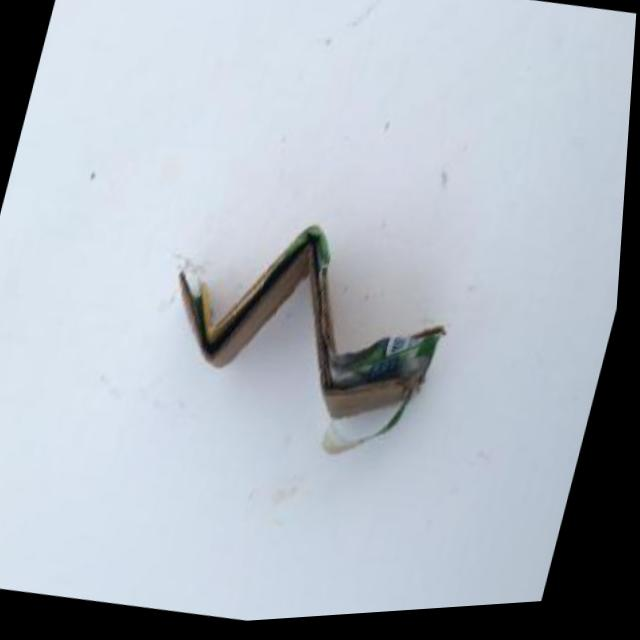box: (110, 137, 550, 541)
